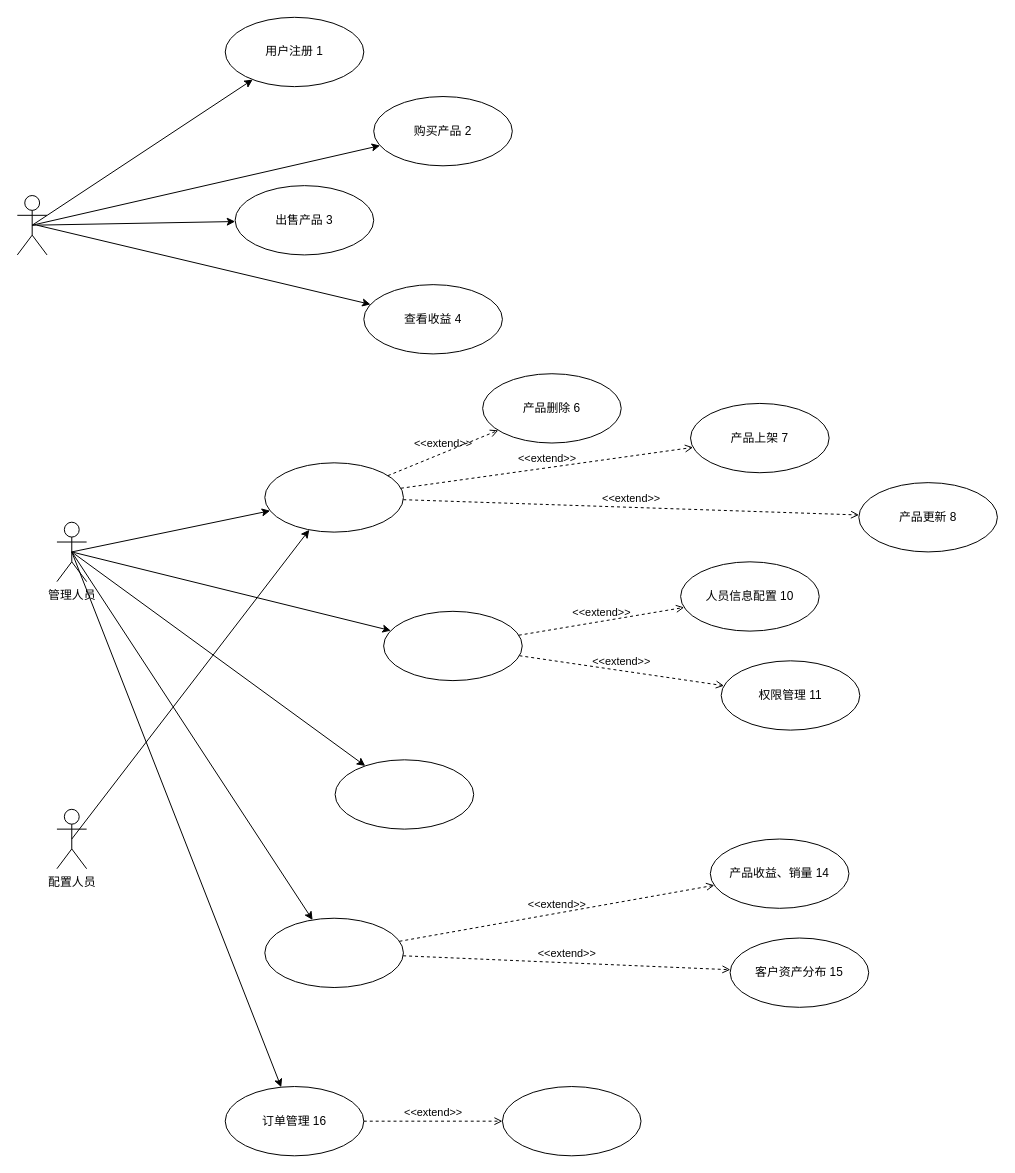
The diagram is 1015 pixels wide and 1173 high, and some of its shapes have lost their labels. Here are the shapes that lost their labels. From the top down, the centre of each, then its label:
the point at 31,225: 用户
the point at 333,497: 产品配置 5
the point at 452,645: 人员管理 9
the point at 404,794: 用户信息维护 12
the point at 333,952: 数据统计 13
the point at 571,1121: 订单查询 17
